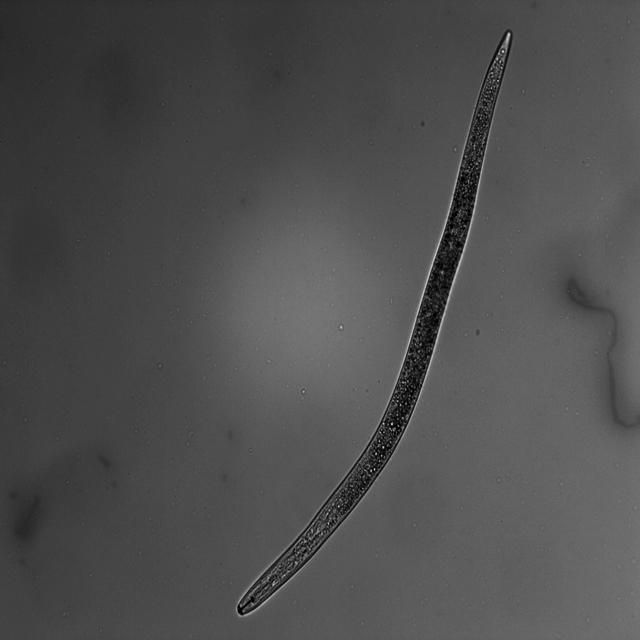Pratylenchus: (234, 22, 516, 622)
